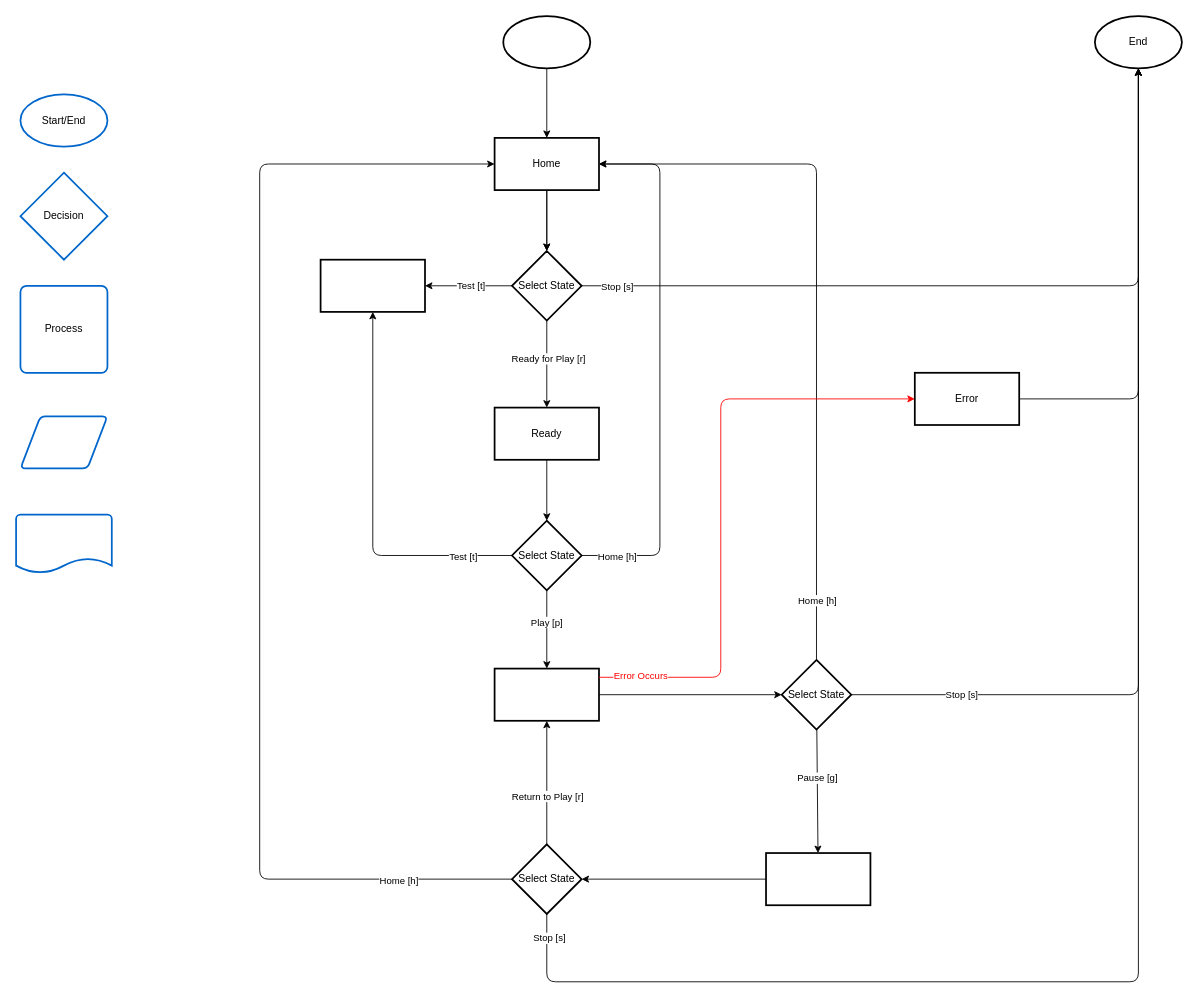
This 1197x1004 diagram has some shape labels left out. Here are the shapes that lost their labels. From the top down, the box of each, then its label:
(502, 15, 591, 69): Start Program
(319, 258, 425, 312): Test Mode
(19, 415, 108, 469): Input/Data
(15, 513, 112, 573): Output/Document
(493, 667, 599, 721): Play
(765, 852, 871, 906): Pause
